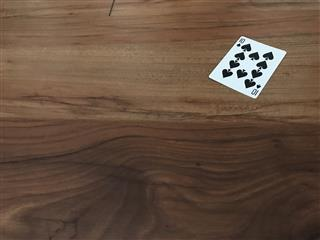TenOfSpades: (207, 34, 287, 99)
